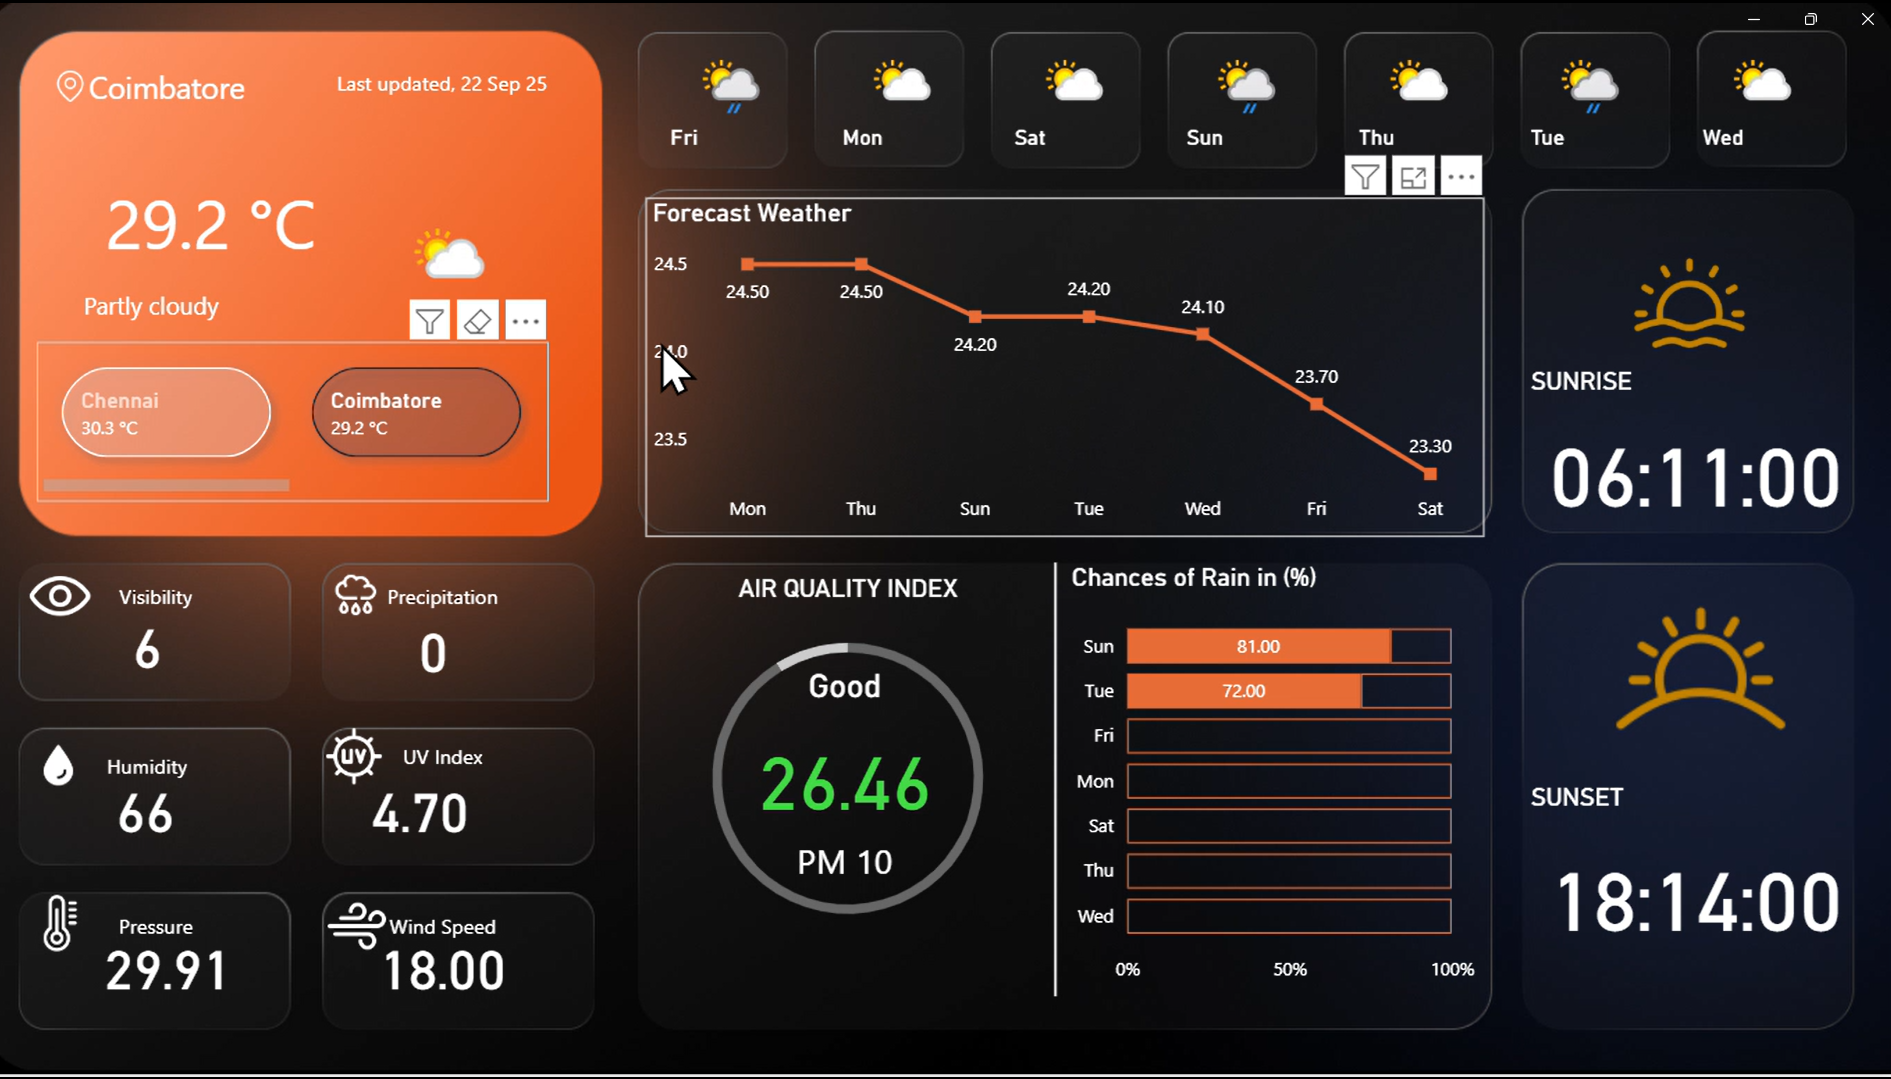

Layout of this report page (visuals, bound fields, positions):
{"tool":"powerbi","page":{"name":"Page 1","canvas":[1280,720],"ordinal":0},"visuals":[{"type":"advancedSlicerVisual","fields":{"Values":["Locations.location.name"]},"box":[36.7,230,342.2,107.8],"z":0},{"type":"shape","box":[54.9,101.5,197.6,96.1],"z":1000},{"type":"shape","box":[68.3,180,240,50],"z":2000},{"type":"shape","box":[67.1,40,113.6,39.3],"z":3000},{"type":"image","box":[37.1,44.3,44.3,30.7],"z":4000},{"type":"shape","box":[223.6,37.1,170,37.9],"z":5000},{"type":"cardVisual","fields":{"Data":["Min(Current.current.condition.icon)"]},"box":[215,101.7,151.7,151.7],"z":6000},{"type":"image","box":[24.4,368.9,56.7,63.3],"z":7000},{"type":"shape","box":[58.8,383.8,115,32.5],"z":8000},{"type":"image","box":[222.5,482.5,55,50],"z":9000},{"type":"image","box":[25,595,56.2,47.5],"z":10000},{"type":"image","box":[223.8,377.5,55,43.8],"z":11000},{"type":"image","box":[215,595,72.5,51.2],"z":12000},{"type":"image","box":[25,493.8,53.8,38.8],"z":13000},{"type":"shape","box":[251.2,491.2,115,32.5],"z":14000},{"type":"shape","box":[251.2,383.8,115,32.5],"z":15000},{"type":"shape","box":[53.8,497.5,115,32.5],"z":16000},{"type":"shape","box":[58.8,605,115,32.5],"z":17000},{"type":"shape","box":[251.2,605,115,32.5],"z":18000},{"type":"card","fields":{"Values":["Sum(Current.current.humidity)"]},"box":[67.5,507.5,85,71.2],"z":19000},{"type":"card","fields":{"Values":["Sum(Current.current.uv)"]},"box":[251.2,507.5,85,71.2],"z":20000},{"type":"card","fields":{"Values":["Sum(Current.current.vis_km)"]},"box":[68.8,396.2,85,71.2],"z":21000},{"type":"card","fields":{"Values":["Sum(Current.current.precip_in)"]},"box":[251.2,400,102.5,71.2],"z":22000},{"type":"card","fields":{"Values":["Sum(Current.current.wind_kph)"]},"box":[251.2,611.2,115,71.2],"z":23000},{"type":"card","fields":{"Values":["Sum(Current.current.pressure_in)"]},"box":[60,611.2,128.8,71.2],"z":24000},{"type":"advancedSlicerVisual","fields":{"Values":["Forecast_day.Day_Name"]},"box":[443.3,28.9,811.1,91.1],"z":25000},{"type":"cardVisual","title":"SUNRISE","fields":{"Data":["Min(Forecast_day.forecast.forecastday.astro.sunrise)"]},"box":[1031.7,246.7,248.3,118.3],"z":26000},{"type":"image","box":[1005,163.3,275,83.3],"z":27000},{"type":"cardVisual","title":"SUNSET","fields":{"Data":["Min(Forecast_day.forecast.forecastday.astro.sunset)"]},"box":[1031.7,525,248.3,133.3],"z":28000},{"type":"image","box":[1018.3,368.3,261.7,160],"z":29000},{"type":"lineChart","title":"Forecast Weather","fields":{"Category":["Forecast_day.Day_Name"],"Y":["Sum(Forecast_day.forecast.forecastday.day.avgtemp_c)"]},"box":[444.2,133.7,560.5,226.7],"z":30000},{"type":"shape","box":[711.7,378.3,13.3,290],"z":31000},{"type":"cardVisual","fields":{"Data":["Sum(Current.current.air_quality.pm10)"]},"box":[490,448,176,176],"z":32000},{"type":"donutChart","title":"AIR QUALITY INDEX","fields":{"Y":["Measureses.Left_value_PM10","Sum(Current.current.air_quality.pm10)"]},"box":[434.9,384.9,289.5,255.8],"z":33000},{"type":"hundredPercentStackedBarChart","title":"Chances of Rain in (%)","fields":{"Y":["Sum(Forecast_day.forecast.forecastday.day.daily_chance_of_rain)","Measureses.Left_value_Rain"],"Category":["Forecast_day.Day_Name"]},"box":[725,378,279,290],"z":34000}]}

Visuals, with their boxes on the page's 1280x720 design canvas (x1, y1, x2, y2). These are canvas units, not pixel positions in the 1891x1079 screenshot, which may show the page scaled, cropped or inside an application window:
advancedSlicerVisual - Locations.location.name: x1=37 y1=230 x2=379 y2=338
shape: x1=55 y1=102 x2=252 y2=198
shape: x1=68 y1=180 x2=308 y2=230
shape: x1=67 y1=40 x2=181 y2=79
image: x1=37 y1=44 x2=81 y2=75
shape: x1=224 y1=37 x2=394 y2=75
cardVisual - Min(Current.current.condition.icon): x1=215 y1=102 x2=367 y2=253
image: x1=24 y1=369 x2=81 y2=432
shape: x1=59 y1=384 x2=174 y2=416
image: x1=222 y1=482 x2=278 y2=532
image: x1=25 y1=595 x2=81 y2=642
image: x1=224 y1=378 x2=279 y2=421
image: x1=215 y1=595 x2=288 y2=646
image: x1=25 y1=494 x2=79 y2=533
shape: x1=251 y1=491 x2=366 y2=524
shape: x1=251 y1=384 x2=366 y2=416
shape: x1=54 y1=498 x2=169 y2=530
shape: x1=59 y1=605 x2=174 y2=638
shape: x1=251 y1=605 x2=366 y2=638
card - Sum(Current.current.humidity): x1=68 y1=508 x2=152 y2=579
card - Sum(Current.current.uv): x1=251 y1=508 x2=336 y2=579
card - Sum(Current.current.vis_km): x1=69 y1=396 x2=154 y2=467
card - Sum(Current.current.precip_in): x1=251 y1=400 x2=354 y2=471
card - Sum(Current.current.wind_kph): x1=251 y1=611 x2=366 y2=682
card - Sum(Current.current.pressure_in): x1=60 y1=611 x2=189 y2=682
advancedSlicerVisual - Forecast_day.Day_Name: x1=443 y1=29 x2=1254 y2=120
"SUNRISE" cardVisual: x1=1032 y1=247 x2=1280 y2=365
image: x1=1005 y1=163 x2=1280 y2=247
"SUNSET" cardVisual: x1=1032 y1=525 x2=1280 y2=658
image: x1=1018 y1=368 x2=1280 y2=528
"Forecast Weather" lineChart: x1=444 y1=134 x2=1005 y2=360
shape: x1=712 y1=378 x2=725 y2=668
cardVisual - Sum(Current.current.air_quality.pm10): x1=490 y1=448 x2=666 y2=624
"AIR QUALITY INDEX" donutChart: x1=435 y1=385 x2=724 y2=641
"Chances of Rain in (%)" hundredPercentStackedBarChart: x1=725 y1=378 x2=1004 y2=668
